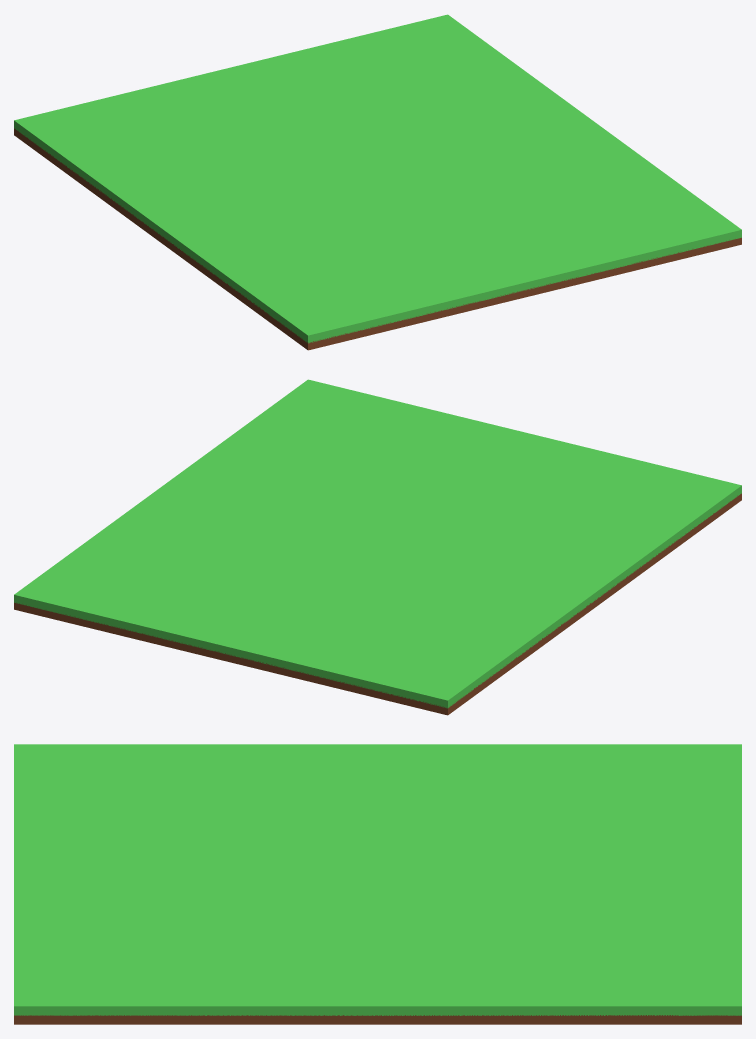
File: ground.glb
The picture shows the model from 3 angles, top to bottom: view 1: azimuth 30°, elevation 25°; view 2: azimuth 150°, elevation 25°; view 3: azimuth 270°, elevation 25°; orthographic projection. The views are drawn at different scales.
Visible parts, largest first — view 1: Rumput, Rumput001; view 2: Rumput, Rumput001; view 3: Rumput, Rumput001.
Boxes of the visible parts, box(x1,y1,x2,y2) form: Rumput: box(14, 14, 741, 343); Rumput001: box(14, 128, 741, 350); Rumput: box(14, 379, 741, 708); Rumput001: box(14, 493, 741, 715); Rumput: box(14, 744, 741, 1015); Rumput001: box(14, 1015, 741, 1024).
Size of the model in its own units: 5.84 by 0.1914 by 6.86.
